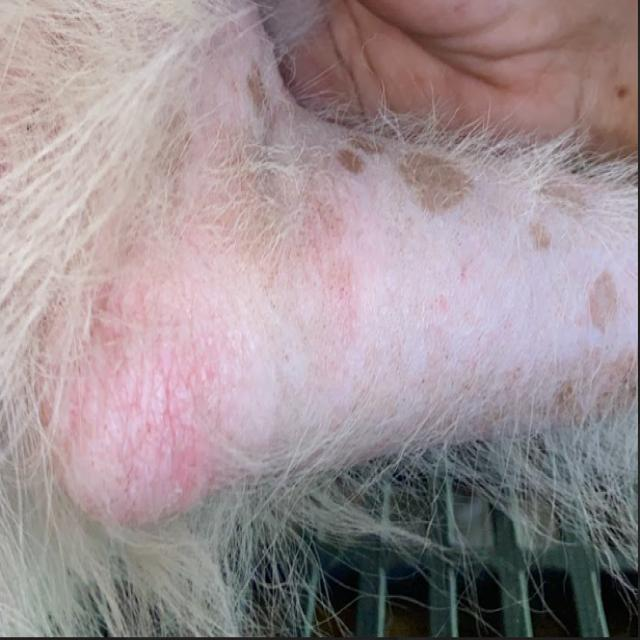demodicosis: (73, 104, 564, 452)
